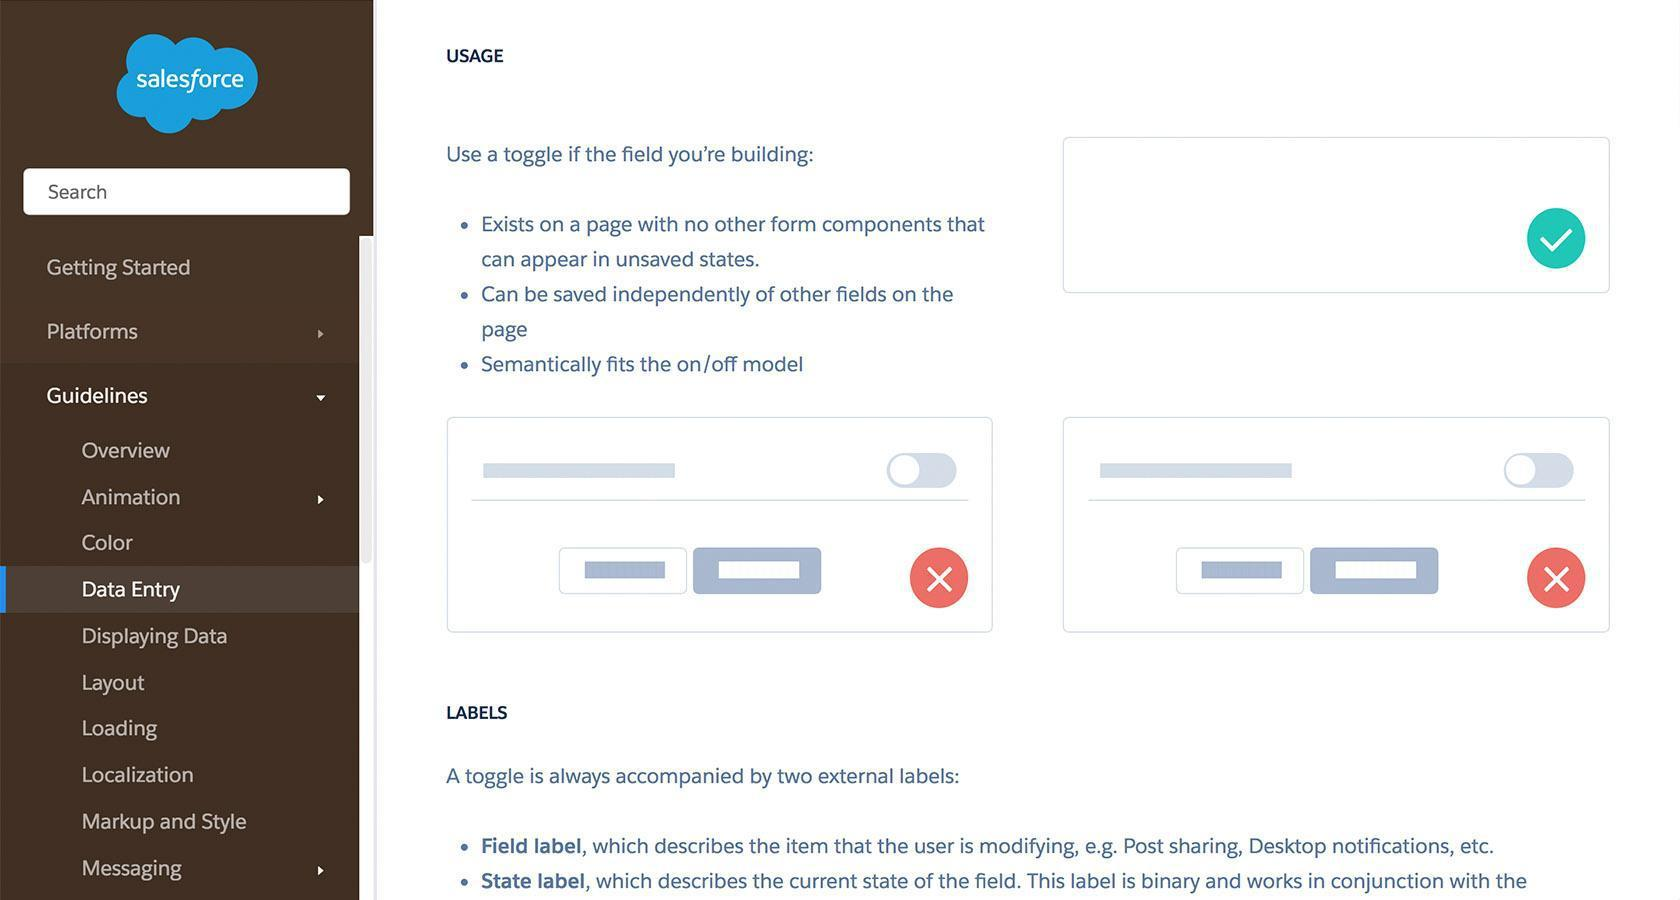button: (694, 544, 824, 599), (558, 546, 689, 598), (1310, 549, 1442, 596), (1178, 550, 1306, 597)
checkbox: (900, 541, 981, 619), (1523, 548, 1591, 612), (1528, 206, 1588, 272)
input: (23, 167, 352, 214)
switch: (877, 448, 969, 493), (1503, 448, 1584, 496)
